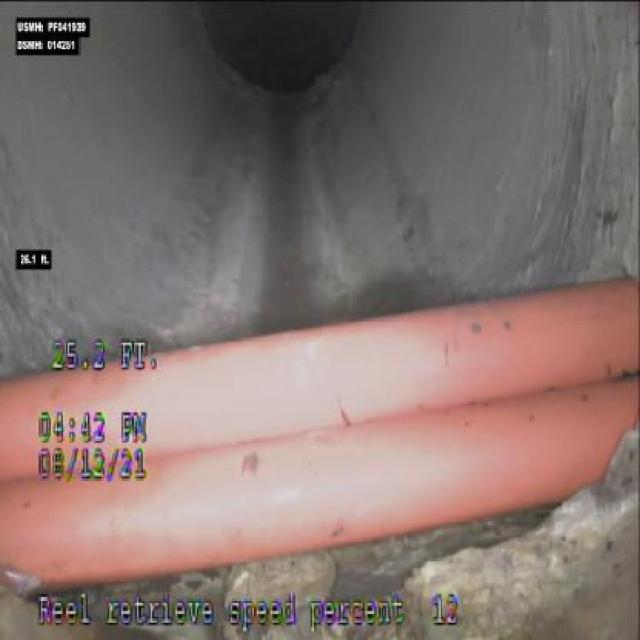Utility intrusion: (0, 270, 638, 607)
